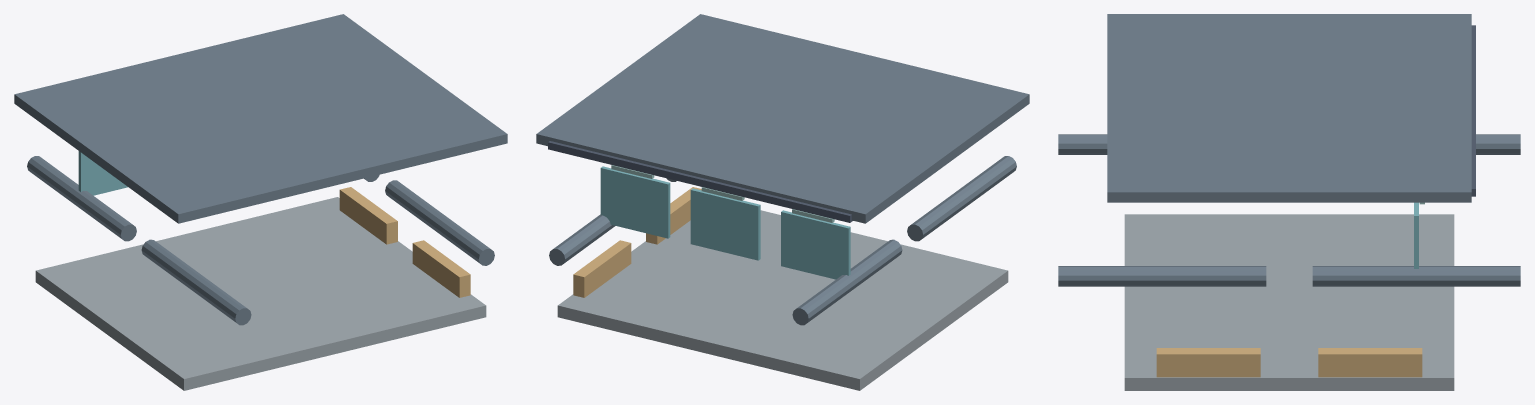
File: field_station.glb
The picture shows the model from 3 angles, left to right: view 1: azimuth 30°, elevation 25°; view 2: azimuth 150°, elevation 25°; view 3: azimuth 270°, elevation 25°; orthographic projection. The views are drawn at different scales.
Visible parts, largest first — view 1: world; view 2: world; view 3: world.
Part boxes in pixels (x1,y1,x2,y2): world: [14, 14, 507, 390]; world: [536, 14, 1029, 390]; world: [1058, 14, 1520, 390].
Bounding box in the file's own units: 7.3 × 3.94 × 8.
